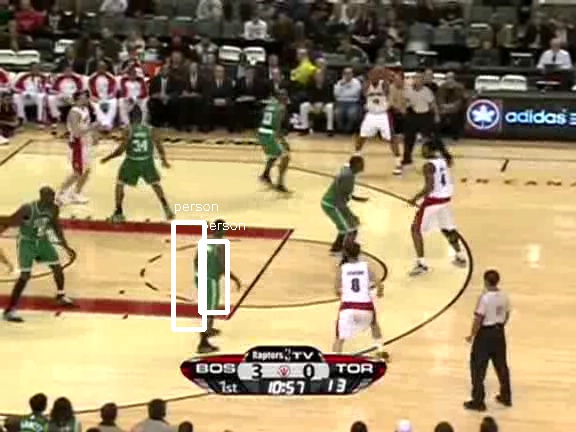person: (193, 235, 227, 316), (192, 235, 226, 316), (194, 235, 228, 316), (193, 234, 227, 315), (193, 236, 227, 317)
target_negative: (35, 57, 305, 288), (193, 45, 475, 216), (58, 265, 344, 308), (158, 321, 228, 409), (234, 371, 342, 416), (562, 43, 565, 157)
